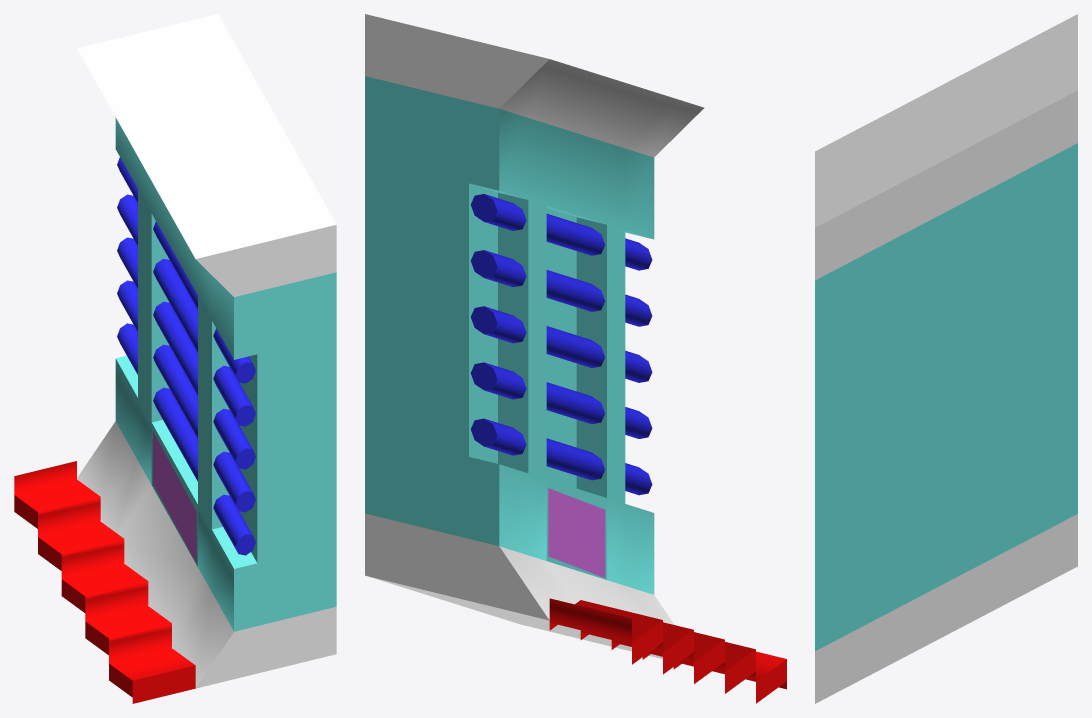
Rendered from Wall-BaseAngled.fbx.
The picture shows the model from 3 angles, left to right: view 1: azimuth 30°, elevation 25°; view 2: azimuth 150°, elevation 25°; view 3: azimuth 270°, elevation 25°; orthographic projection. The views are drawn at different scales.
Visible parts, largest first — view 1: BaseAngled; view 2: BaseAngled; view 3: BaseAngled.
Part boxes in pixels (left/top/right/bottom): BaseAngled: left=14, top=14, right=336, bottom=703; BaseAngled: left=365, top=14, right=786, bottom=703; BaseAngled: left=815, top=14, right=1077, bottom=703.
Size of the model in its own units: 78.28 by 203 by 78.74.
